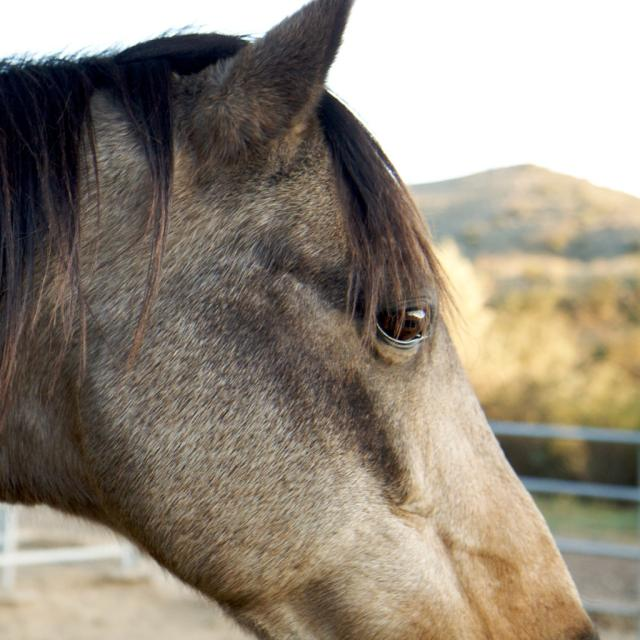Horse: (1, 0, 602, 640)
